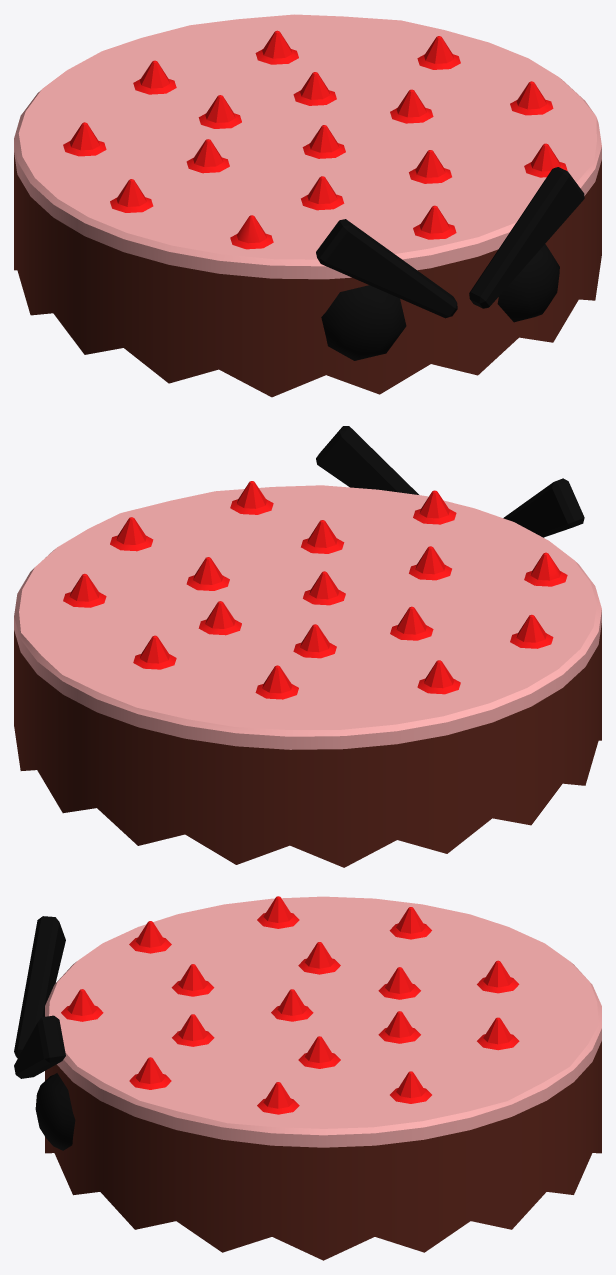
Rendered from P_Cake_Top.FBX.
The picture shows the model from 3 angles, top to bottom: view 1: azimuth 30°, elevation 25°; view 2: azimuth 150°, elevation 25°; view 3: azimuth 270°, elevation 25°; orthographic projection. The views are drawn at different scales.
Parts seen in each view (by area): view 1: Cake_Top; view 2: Cake_Top; view 3: Cake_Top.
Boxes of the visible parts, left/top/right/bottom form: Cake_Top: left=14, top=14, right=601, bottom=397; Cake_Top: left=14, top=426, right=601, bottom=867; Cake_Top: left=14, top=896, right=601, bottom=1260.
Size of the model in its own units: 42.33 by 44.49 by 14.63.
